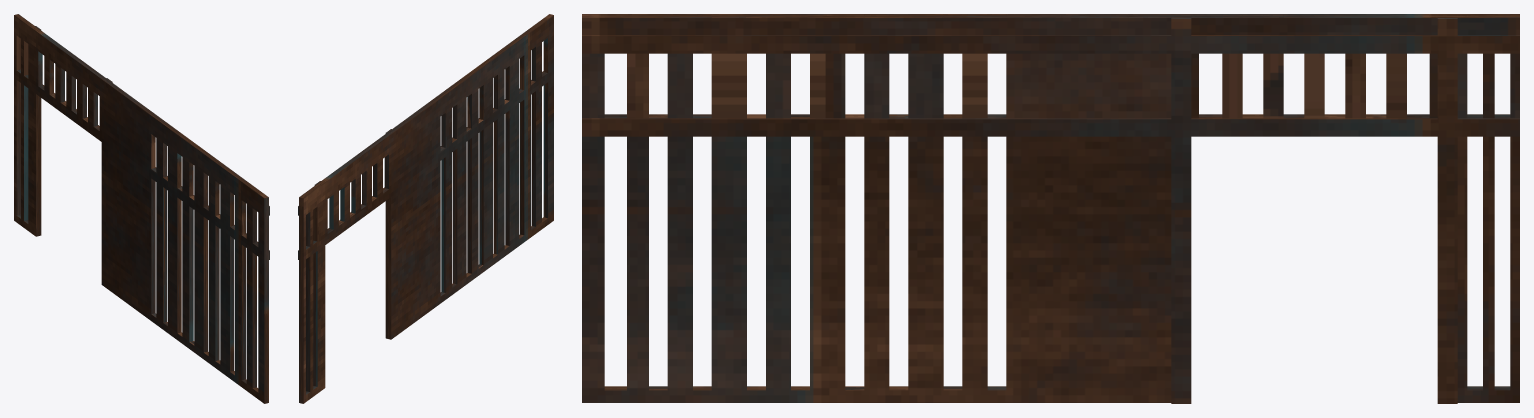
File: Kaidan_wall_FrontSide_2.fbx
The picture shows the model from 3 angles, left to right: view 1: azimuth 30°, elevation 25°; view 2: azimuth 150°, elevation 25°; view 3: azimuth 270°, elevation 25°; orthographic projection. The views are drawn at different scales.
Parts seen in each view (by area): view 1: 立方体.046; view 2: 立方体.046; view 3: 立方体.046.
Boxes of the visible parts, x1=… form: 立方体.046: x1=14, y1=14, x2=269, y2=403; 立方体.046: x1=298, y1=14, x2=553, y2=403; 立方体.046: x1=582, y1=14, x2=1519, y2=403.
Bounding box in the file's own units: 11.12 × 406 × 895.
